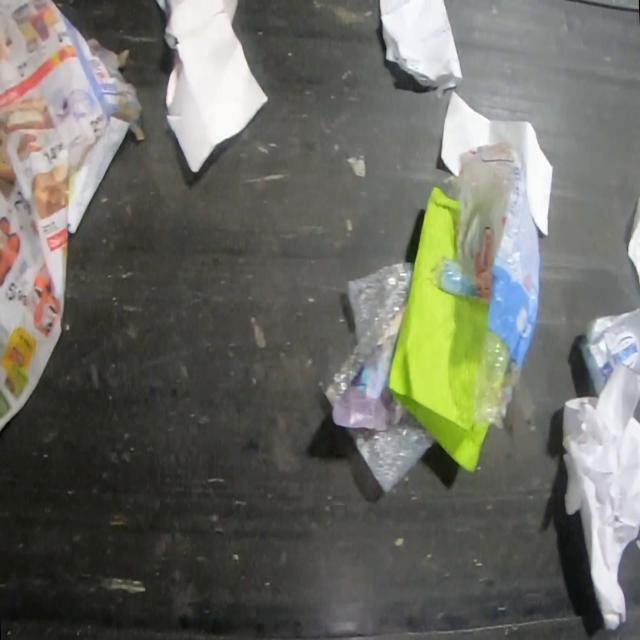cardboard: (578, 303, 640, 401)
soft_plastic: (416, 135, 543, 435), (322, 259, 438, 494)
